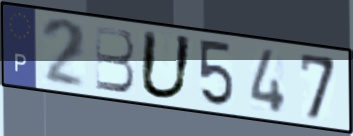2: (39, 16, 89, 91)
4: (247, 46, 288, 115)
5: (197, 36, 236, 109)
7: (298, 50, 337, 123)
B: (93, 23, 138, 95)
U: (137, 27, 196, 102)
